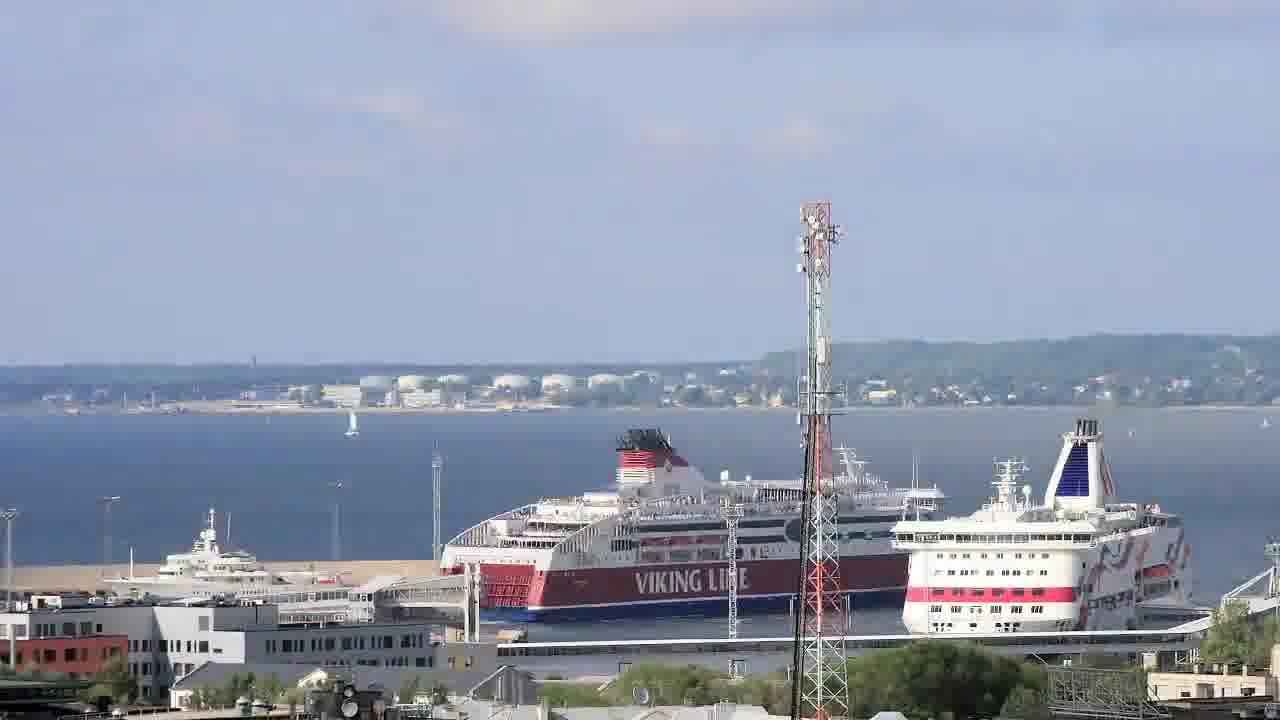type-2: (325, 391, 385, 450)
type-3: (443, 440, 934, 625), (868, 415, 1225, 638), (89, 517, 351, 613)
